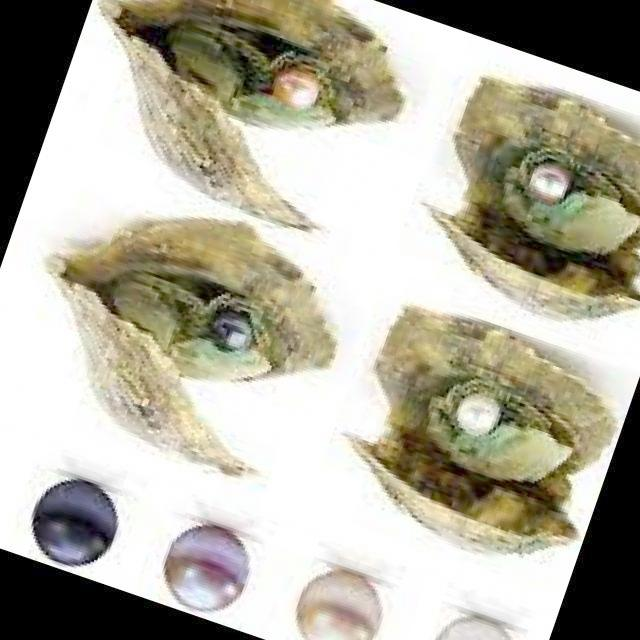Oyster-Open: (42, 217, 338, 478), (96, 1, 406, 220), (356, 308, 612, 552), (435, 78, 639, 318)
